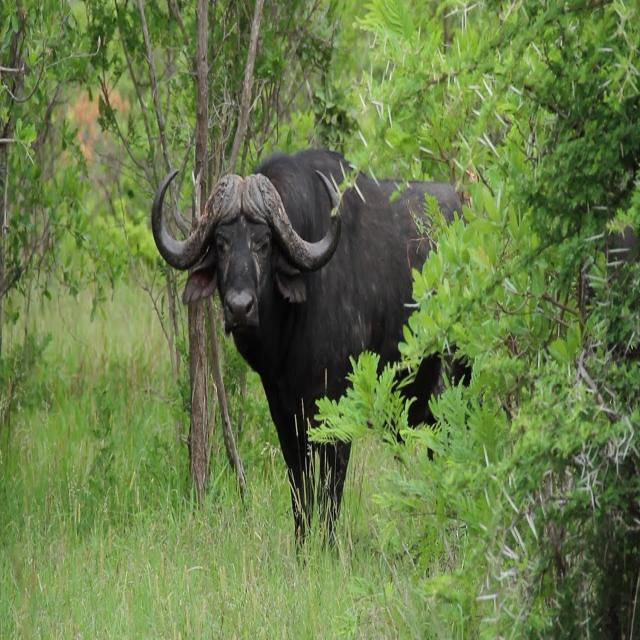buffalo: (151, 131, 445, 572)
